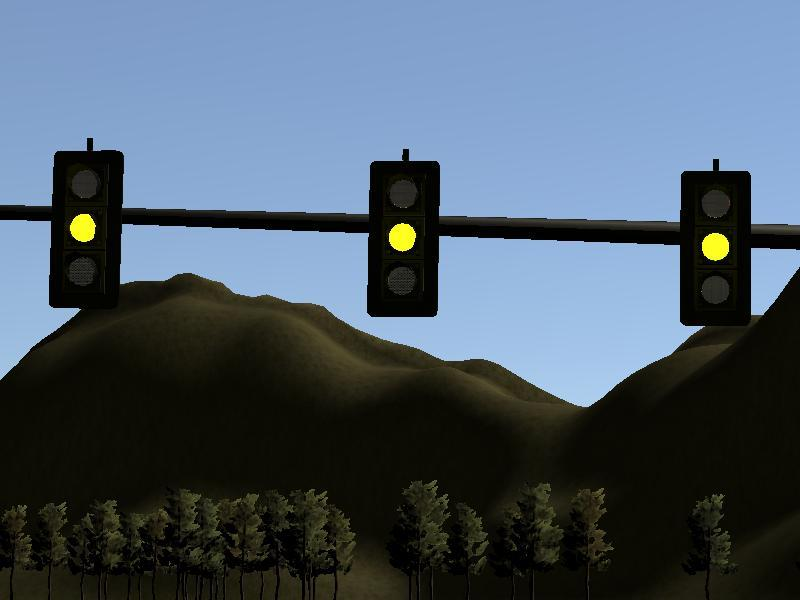Yellow: (368, 160, 439, 319), (680, 170, 752, 326), (51, 150, 122, 308)
